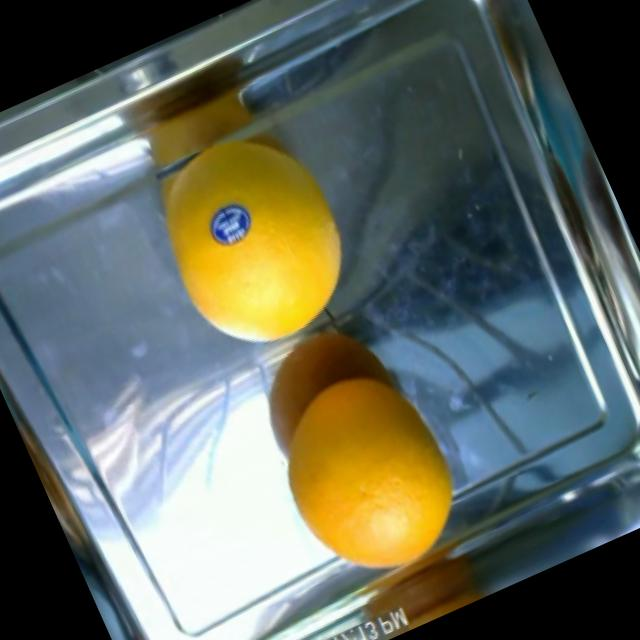Fruit: (197, 191, 264, 261)
